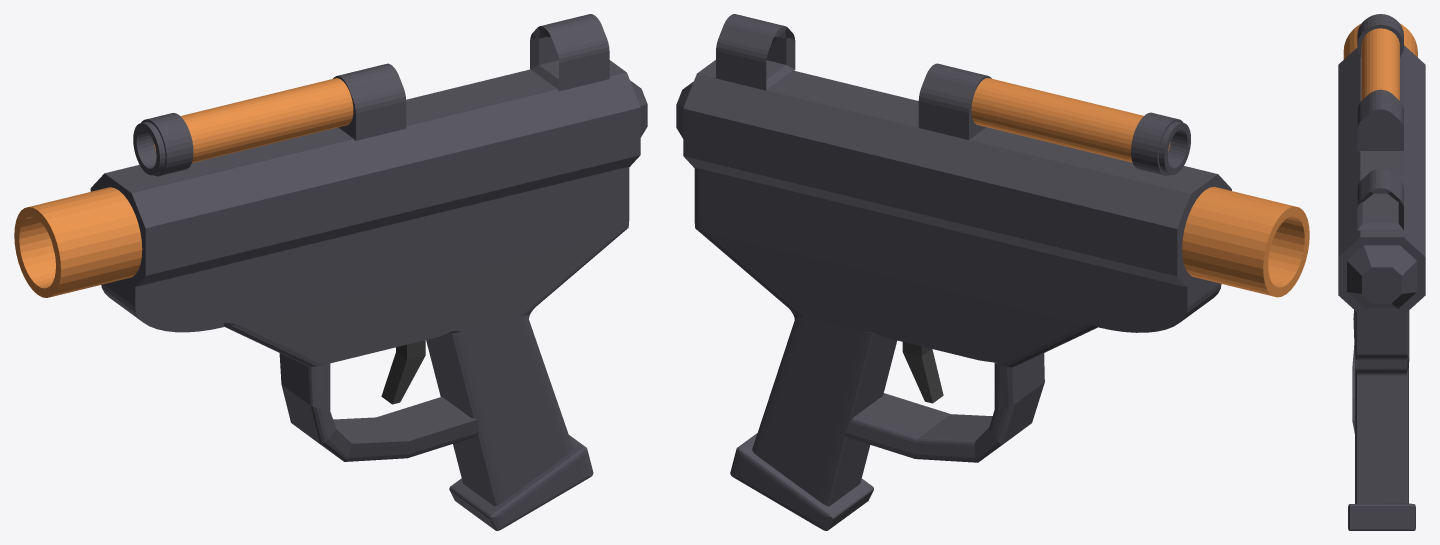
Rendered from BlasterGun.fbx.
3 renders of one model, left to right at view 1: azimuth 30°, elevation 25°; view 2: azimuth 150°, elevation 25°; view 3: azimuth 270°, elevation 25°, orthographic. The views are drawn at different scales.
Parts seen in each view (by area): view 1: GunBase, Cylinder, Cylinder.001, Cube.005, Cube.002, Cylinder.002, Cube.007; view 2: GunBase, Cylinder, Cylinder.001, Cube.005, Cube.002, Cylinder.002, Cube.007; view 3: GunBase, Cube.002, Cylinder.001, Cube.005, Cylinder.002, Cylinder.
Part boxes in pixels (<box>): GunBase: <box>90,60,647,530</box>; Cylinder: <box>14,187,142,297</box>; Cylinder.001: <box>153,78,353,162</box>; Cube.005: <box>530,14,609,91</box>; Cube.002: <box>333,63,406,140</box>; Cylinder.002: <box>133,113,193,176</box>; Cube.007: <box>381,340,425,404</box>; GunBase: <box>676,60,1231,530</box>; Cylinder: <box>1182,186,1309,297</box>; Cylinder.001: <box>971,78,1170,162</box>; Cube.005: <box>716,14,795,90</box>; Cube.002: <box>918,63,991,139</box>; Cylinder.002: <box>1131,112,1190,175</box>; Cube.007: <box>902,342,943,403</box>; GunBase: <box>1338,45,1425,530</box>; Cube.002: <box>1357,89,1403,151</box>; Cylinder.001: <box>1361,28,1399,100</box>; Cube.005: <box>1357,168,1403,230</box>; Cylinder.002: <box>1357,14,1403,57</box>; Cylinder: <box>1343,23,1417,59</box>.
Bounding box in the file's own units: 2.42 × 1.83 × 0.3839.
